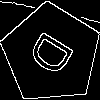D: (26, 29, 84, 84)
